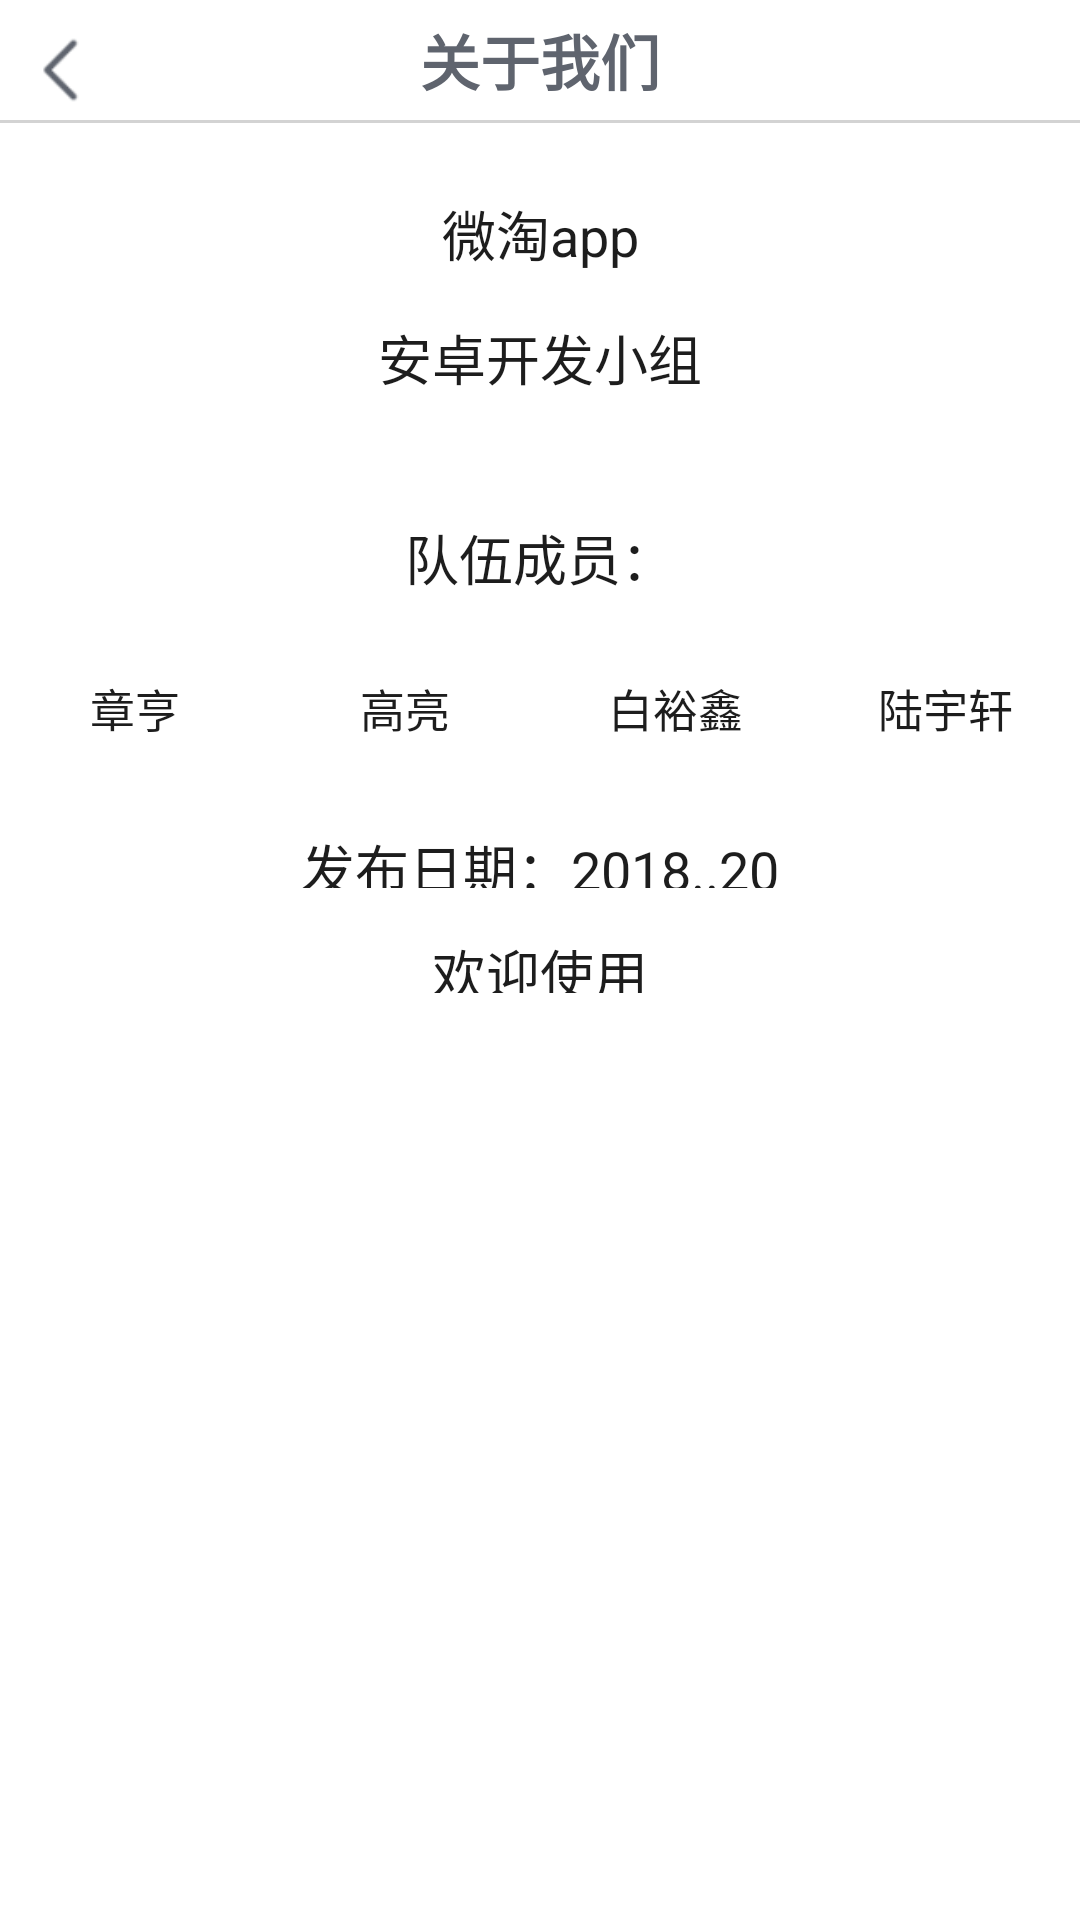

Where icons sit on this 1080px x 1920px app screen, as (x1, y1, x2, y2):
return back: (43, 39, 77, 101)
